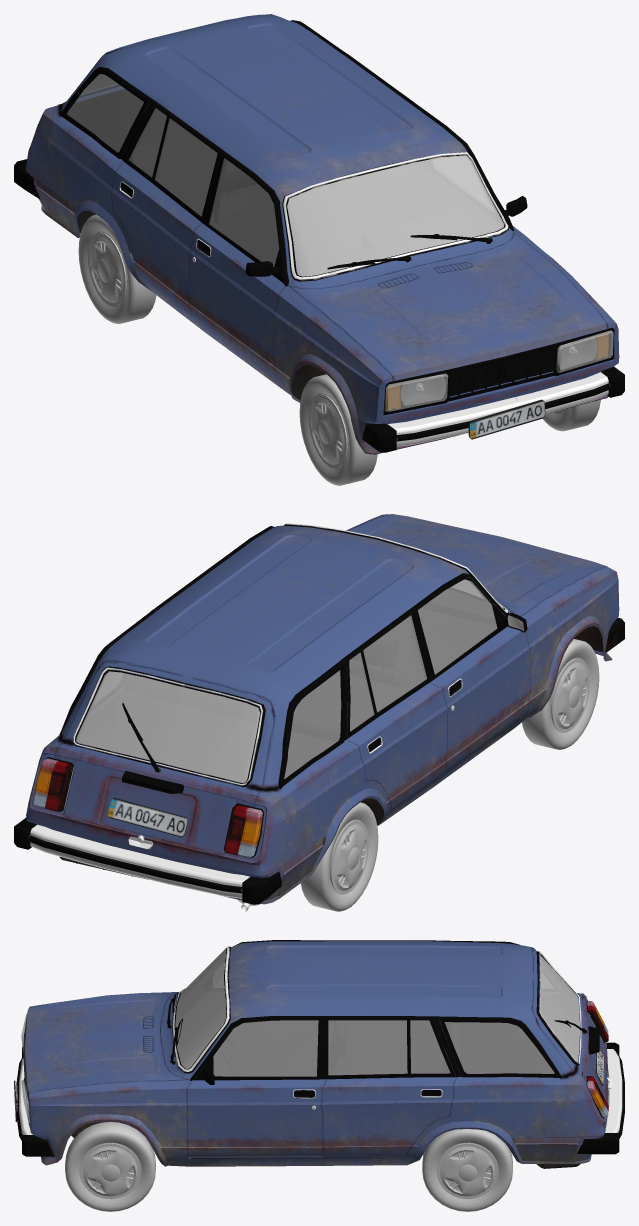
File: vaz 2104 free.fbx
3 renders of one model, top to bottom at view 1: azimuth 30°, elevation 25°; view 2: azimuth 150°, elevation 25°; view 3: azimuth 270°, elevation 25°, orthographic. The views are drawn at different scales.
Parts seen in each view (by area): view 1: Plane, glass 1.001, Wheel 2.002, light, Wheel 2.003, cap wheel.002, cap wheel.003, Wheel 2.001; view 2: Plane, glass 1.001, Wheel 2.003, Wheel 2.002, cap wheel.002, cap wheel.003; view 3: Plane, glass 1.001, Wheel 2.001, Wheel 2, cap wheel, cap wheel.001.
Boxes of the visible parts, box(x1,y1,x2,y2) form: Plane: box(14, 14, 624, 454); glass 1.001: box(67, 74, 504, 276); Wheel 2.002: box(299, 374, 377, 485); light: box(384, 330, 613, 411); Wheel 2.003: box(78, 214, 156, 323); cap wheel.002: box(87, 232, 126, 306); cap wheel.003: box(308, 394, 347, 468); Wheel 2.001: box(543, 399, 600, 431); Plane: box(14, 514, 624, 911); glass 1.001: box(76, 579, 497, 782); Wheel 2.003: box(300, 802, 378, 911); Wheel 2.002: box(522, 639, 599, 749); cap wheel.002: box(330, 820, 369, 894); cap wheel.003: box(551, 658, 589, 732); Plane: box(14, 940, 624, 1168); glass 1.001: box(175, 948, 579, 1076); Wheel 2.001: box(65, 1122, 155, 1211); Wheel 2: box(422, 1129, 512, 1211); cap wheel: box(79, 1143, 140, 1199); cap wheel.001: box(437, 1143, 498, 1199).
Bounding box in the file's own units: 119 × 98.11 × 279.
